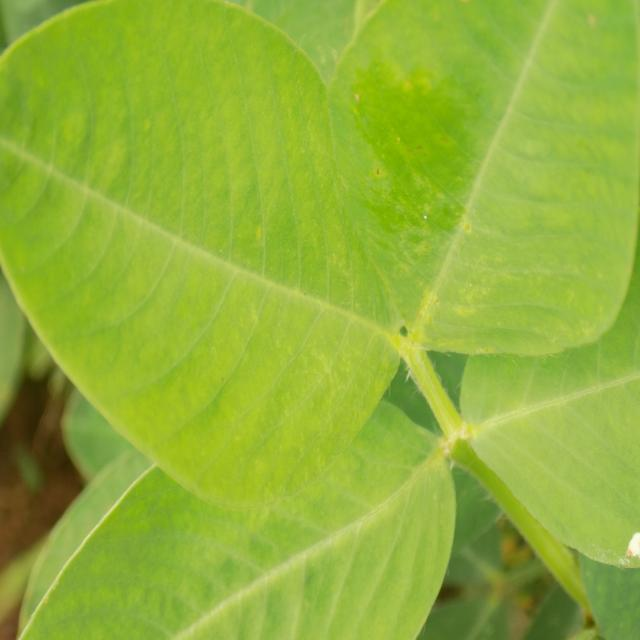Ground nut_healthy: (0, 2, 410, 510)
